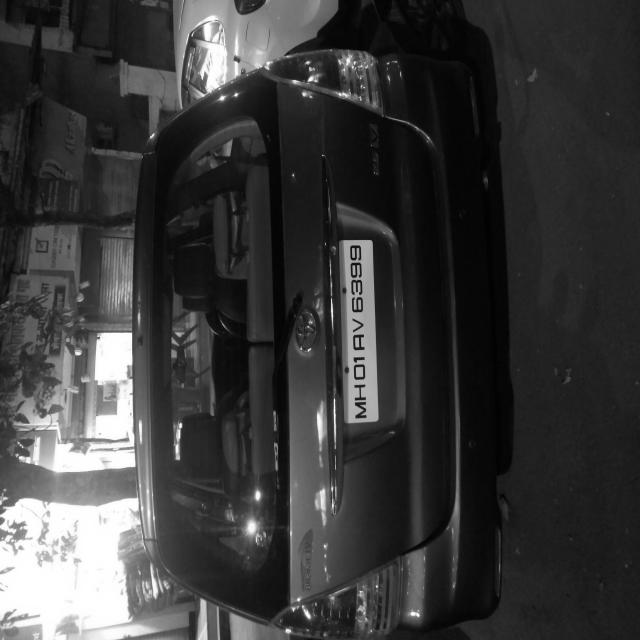car: (2, 168, 449, 640)
license-plate: (163, 455, 300, 507)
